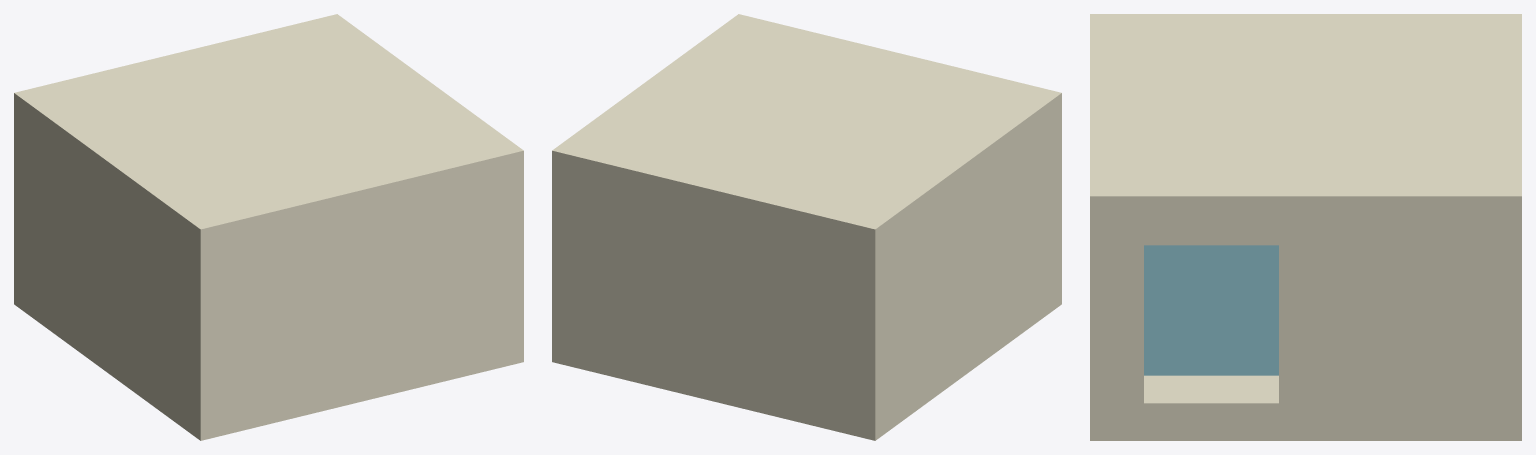
Rendered from building_054.fbx.
3 views of the same model, side by side, from view 1: azimuth 30°, elevation 25°; view 2: azimuth 150°, elevation 25°; view 3: azimuth 270°, elevation 25° (orthographic). The views are drawn at different scales.
Visible parts, largest first — view 1: building_054; view 2: building_054; view 3: building_054.
Part boxes in pixels (left/top/right/bottom): building_054: left=14, top=14, right=523, bottom=440; building_054: left=552, top=14, right=1061, bottom=440; building_054: left=1090, top=14, right=1521, bottom=440.
Bounding box in the file's own units: 10.5 × 6.25 × 10.
